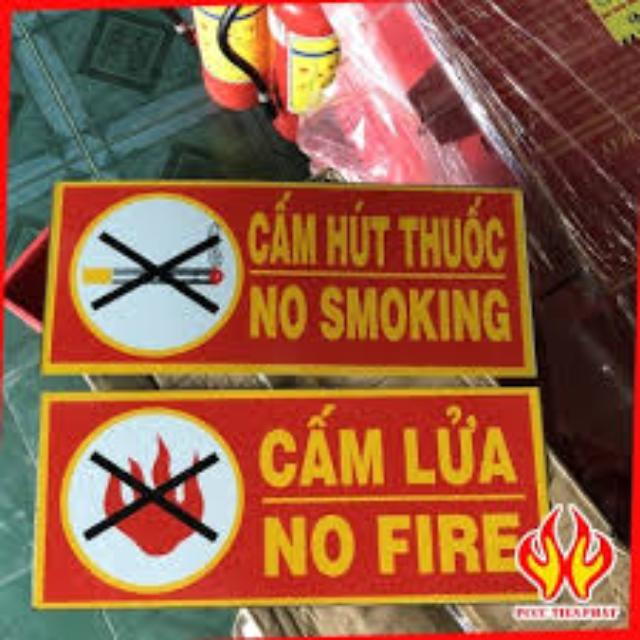cam hut thuoc: (43, 182, 535, 370)
cam lua: (34, 387, 546, 606)
